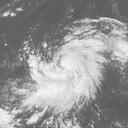cyclone: (25, 38, 106, 116)
